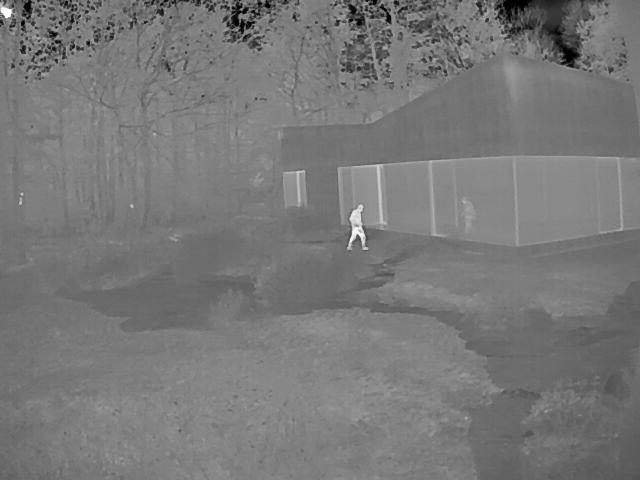person: (348, 204, 369, 250), (462, 196, 476, 236)
